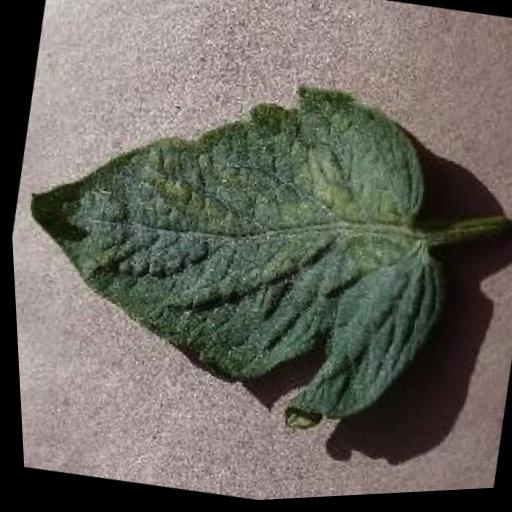Spider Mites: (2, 32, 483, 450)
